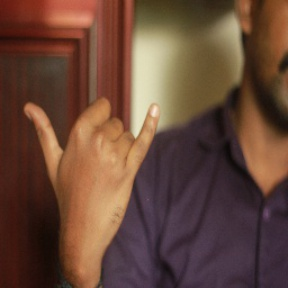J: (22, 84, 160, 224)
